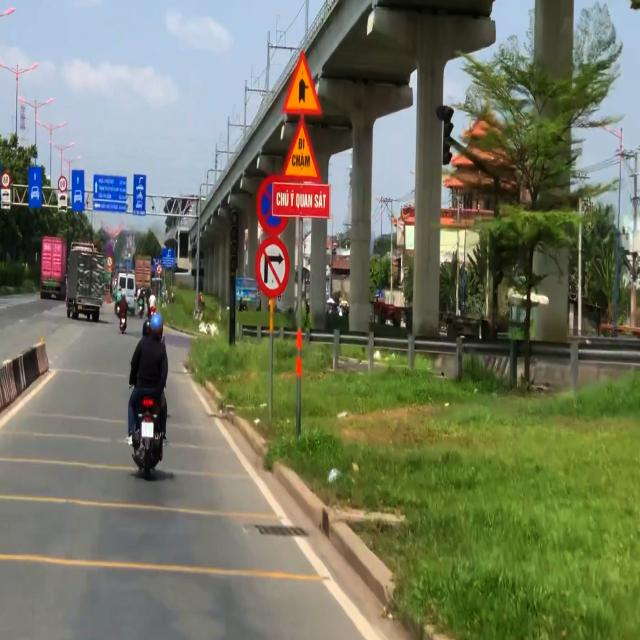Cam dung va do: (256, 175, 287, 236)
Cam re phai: (256, 236, 292, 298)
Giao voi duong khong uu tien: (280, 47, 324, 117)
Nguy hiem: (279, 116, 323, 185)
Toc do toi da: (0, 169, 11, 189), (58, 176, 68, 192)
